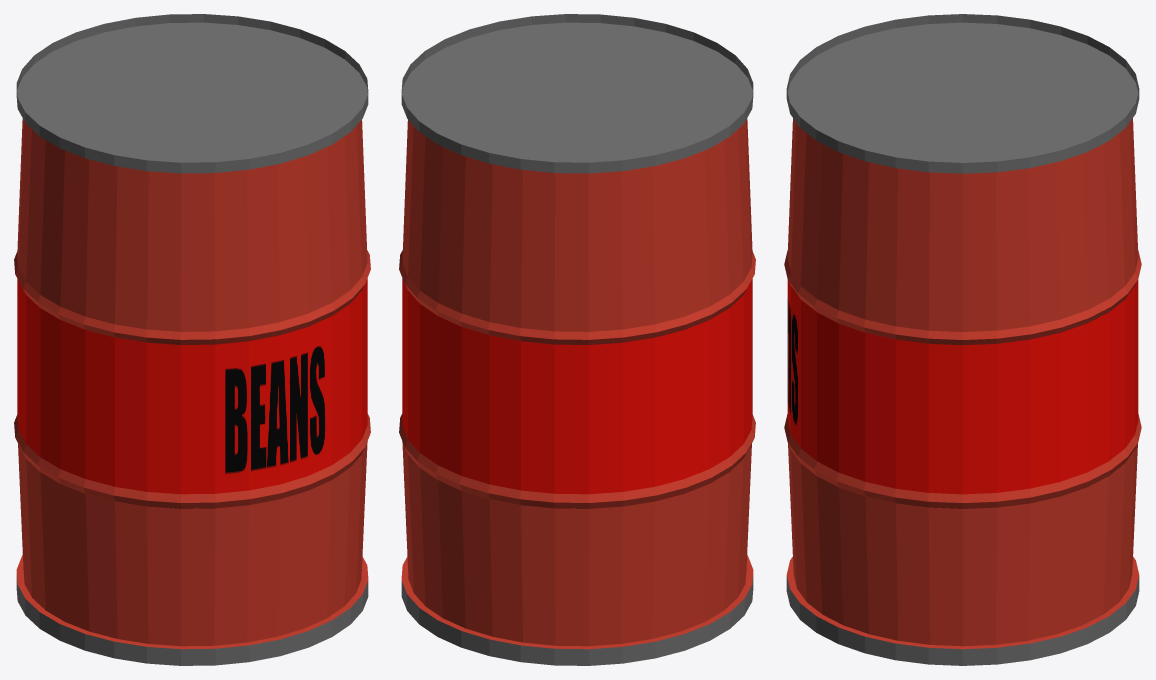
Rendered from barrelBeans.glb.
The picture shows the model from 3 angles, left to right: view 1: azimuth 30°, elevation 25°; view 2: azimuth 150°, elevation 25°; view 3: azimuth 270°, elevation 25°; orthographic projection.
Parts seen in each view (by area): view 1: Cylinder; view 2: Cylinder; view 3: Cylinder.
Boxes of the visible parts, box(x1,y1,x2,y2) form: Cylinder: box(14, 14, 370, 665); Cylinder: box(399, 14, 755, 665); Cylinder: box(784, 14, 1141, 665).
Size of the model in its own units: 2.66 by 4.14 by 2.66.
3 materials, 1 textured.
